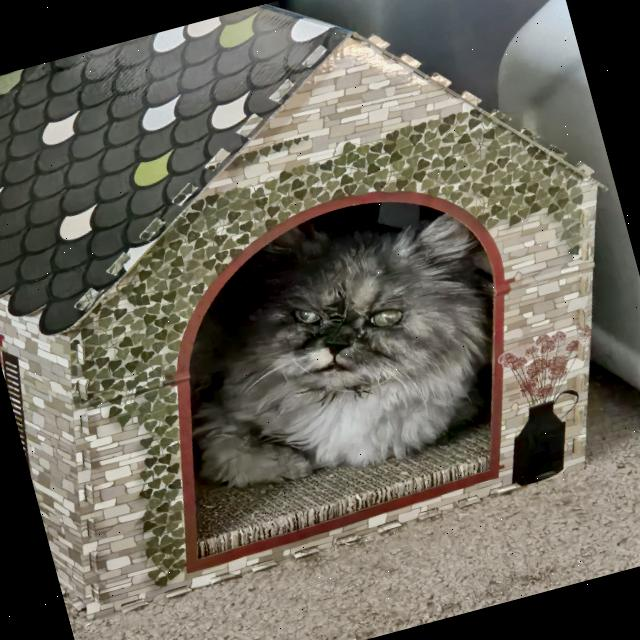persian_cat: (187, 166, 531, 440)
